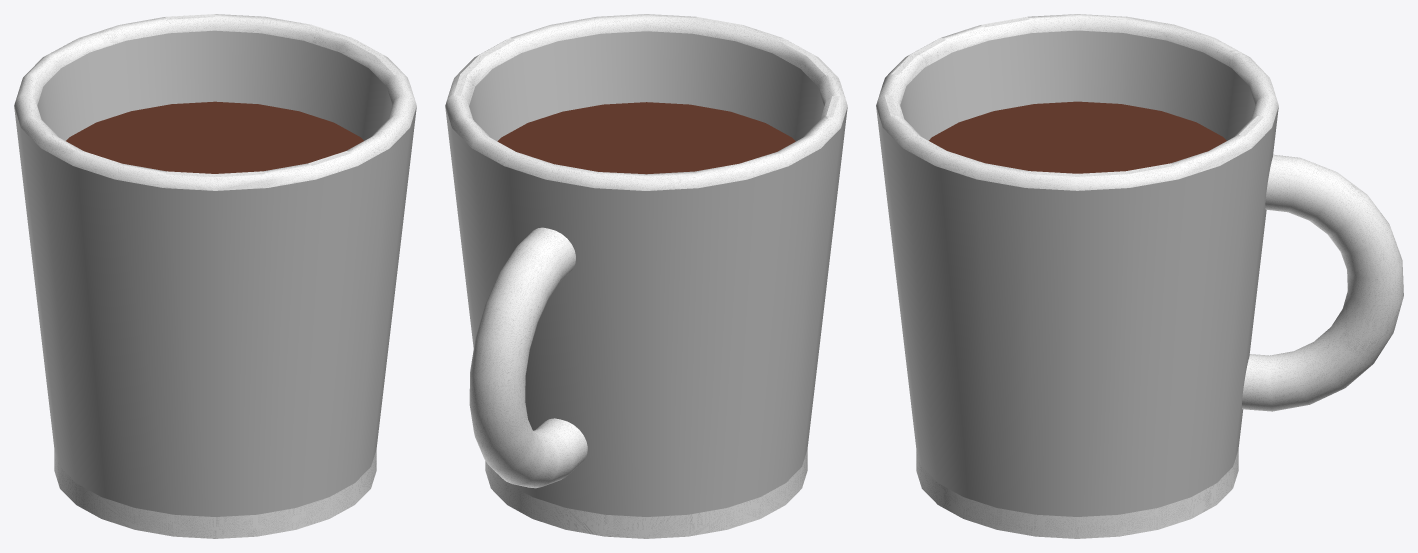
3 renders of one model, left to right at view 1: azimuth 30°, elevation 25°; view 2: azimuth 150°, elevation 25°; view 3: azimuth 270°, elevation 25°, orthographic.
Parts seen in each view (by area): view 1: SketchUp (×9); view 2: SketchUp (×10); view 3: SketchUp (×10).
Boxes of the visible parts, x1,y1,x2,y2 form: SketchUp (×9): (14, 14, 416, 538); SketchUp (×10): (445, 14, 847, 538); SketchUp (×10): (876, 14, 1403, 538).
Size of the model in its own units: 39.37 by 51.59 by 40.5.
